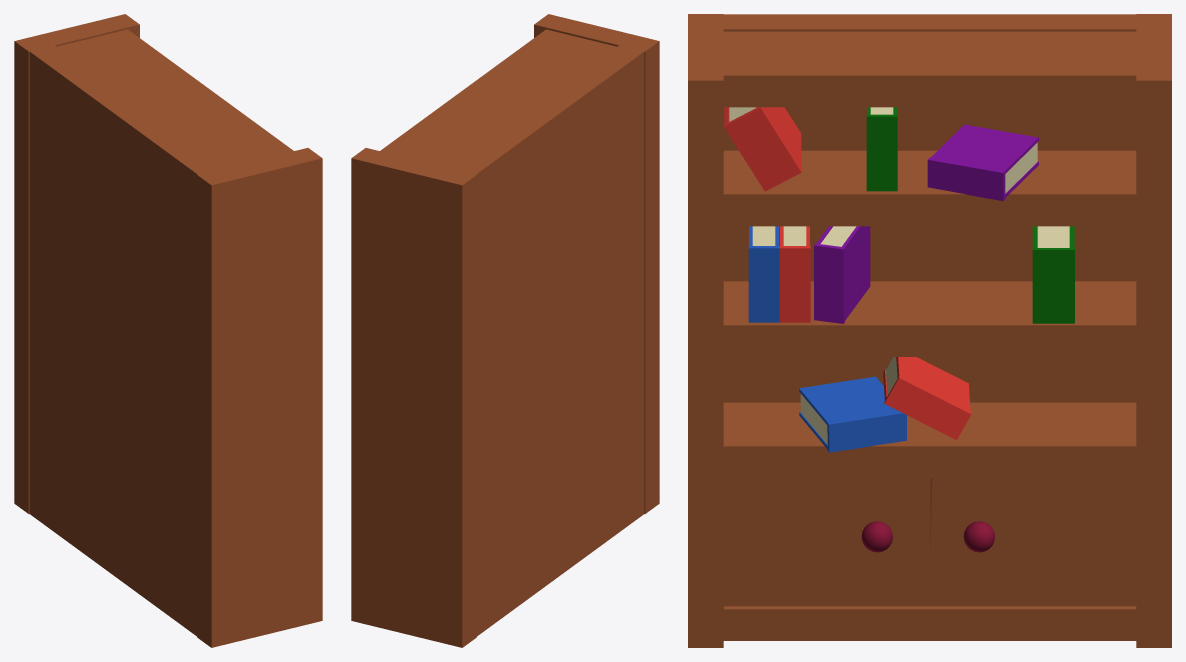
Rendered from Library.fbx.
3 renders of one model, left to right at view 1: azimuth 30°, elevation 25°; view 2: azimuth 150°, elevation 25°; view 3: azimuth 270°, elevation 25°, orthographic. The views are drawn at different scales.
Parts seen in each view (by area): view 1: Cube.006, Cube, Cube.005, Cube.007; view 2: Cube.006, Cube.007, Cube.005, Cube; view 3: Cube.006, Cube.005, Cube.008, Cube.009, Cube.002, Cube.003, Cube.004, Cube.007, Cube, Cube.001, Cube.013, Cube.018 (+15 smaller).
Part boxes in pixels (x1,y1,x2,y2): Cube.006: (29,45,223,636); Cube: (197,148,322,647); Cube.005: (57,29,293,168); Cube.007: (14,14,139,513); Cube.006: (451,40,650,636); Cube.007: (351,148,476,647); Cube.005: (380,29,616,168); Cube: (534,14,659,513); Cube.006: (707,14,1136,402); Cube.005: (723,31,1136,107); Cube.008: (723,478,930,606); Cube.009: (930,478,1136,606); Cube.002: (723,402,1136,478); Cube.003: (723,281,1136,356); Cube.004: (723,150,1136,226); Cube.007: (1136,14,1171,647); Cube: (688,14,723,647); Cube.001: (723,606,1136,640); Cube.013: (724,107,801,191); Cube.018: (1032,248,1074,323).
Bounding box in the file's own units: 303 × 1207 × 932.
